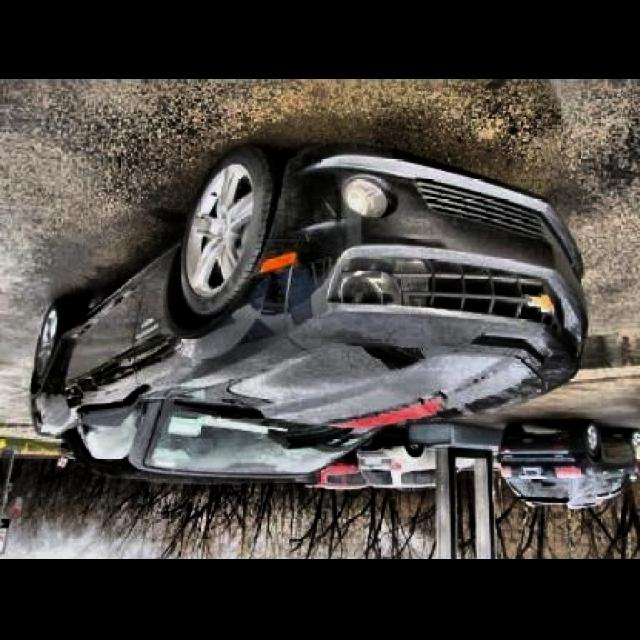black: (19, 155, 640, 480)
